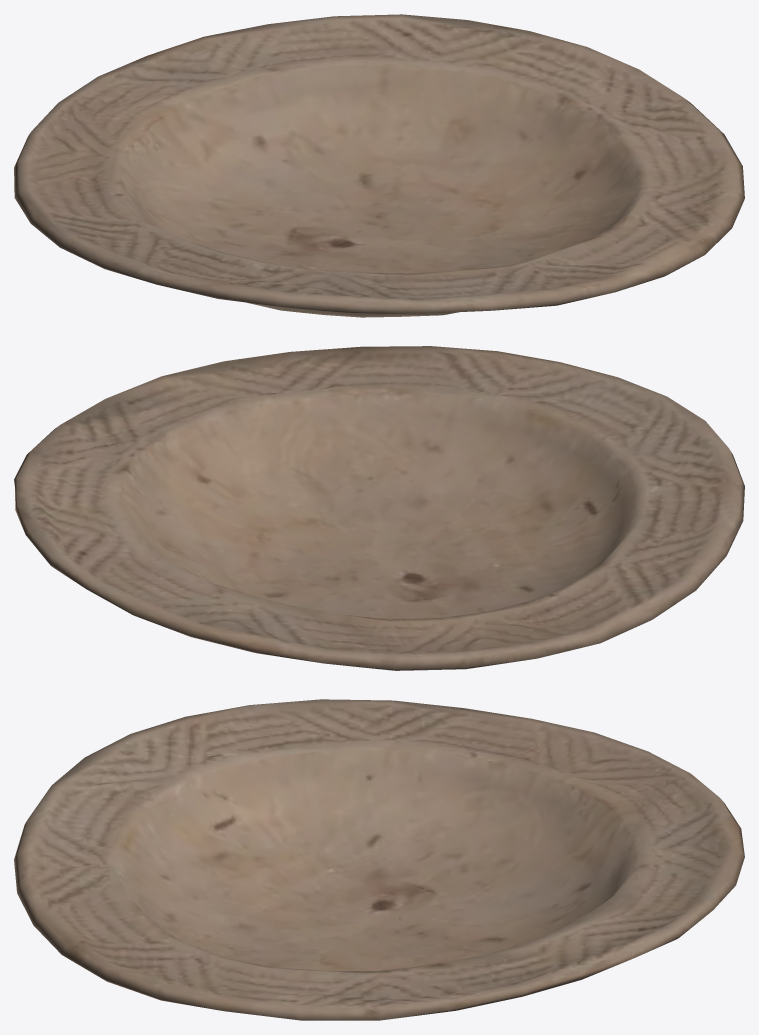
File: carved_wooden_plate.glb
The picture shows the model from 3 angles, top to bottom: view 1: azimuth 30°, elevation 25°; view 2: azimuth 150°, elevation 25°; view 3: azimuth 270°, elevation 25°; orthographic projection. The views are drawn at different scales.
Visible parts, largest first — view 1: carved_wooden_plate; view 2: carved_wooden_plate; view 3: carved_wooden_plate.
Part boxes in pixels (x1,y1,x2,y2): carved_wooden_plate: (14, 14, 744, 317); carved_wooden_plate: (14, 346, 744, 670); carved_wooden_plate: (14, 699, 744, 1020).
Bounding box in the file's own units: 0.2718 × 0.0376 × 0.2688.
1 material, 1 textured.
